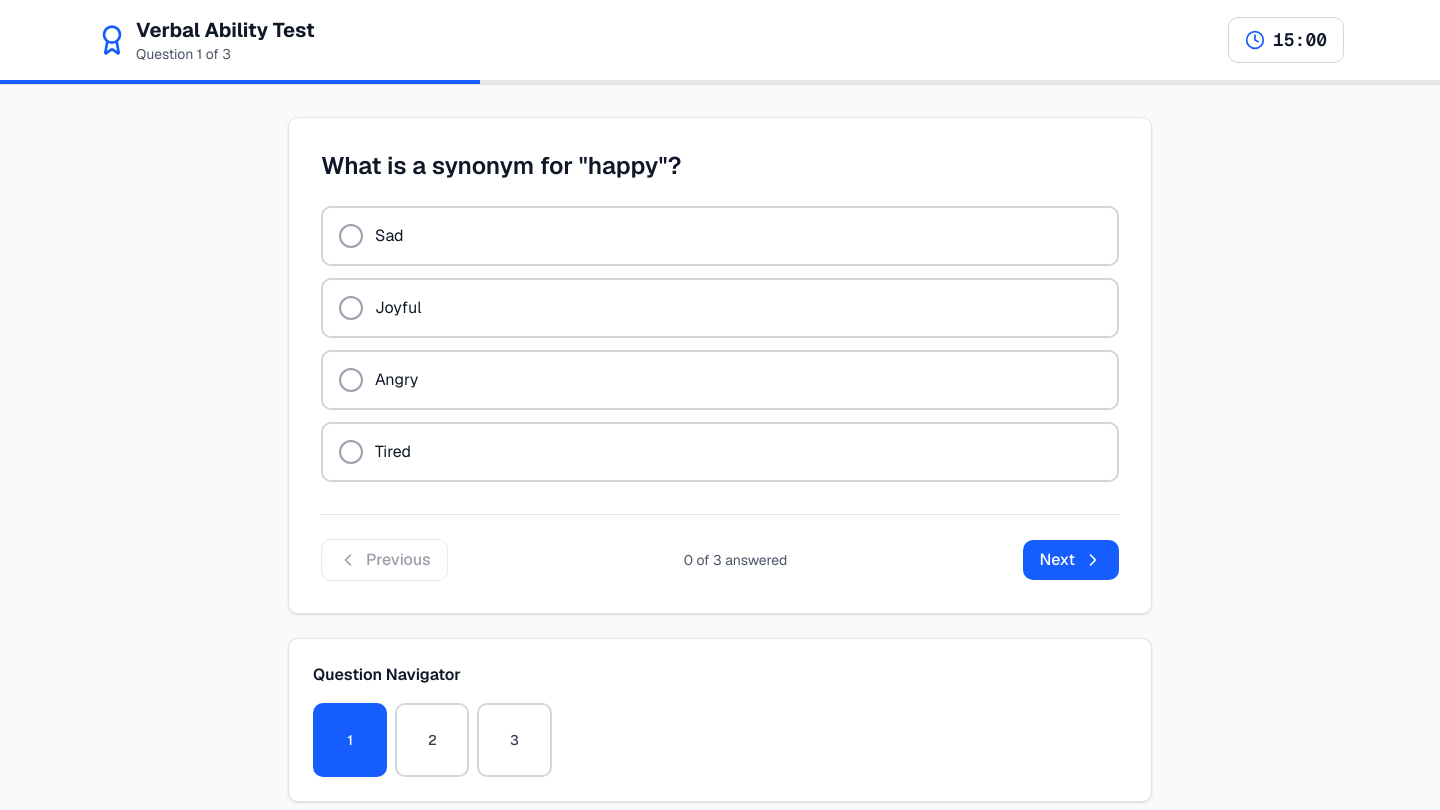
TestTaker Component › shows Submit Test button on last question
Navigate to last question
Click the button "Next". click: (1071, 560)
box: [1023,540,1119,580]
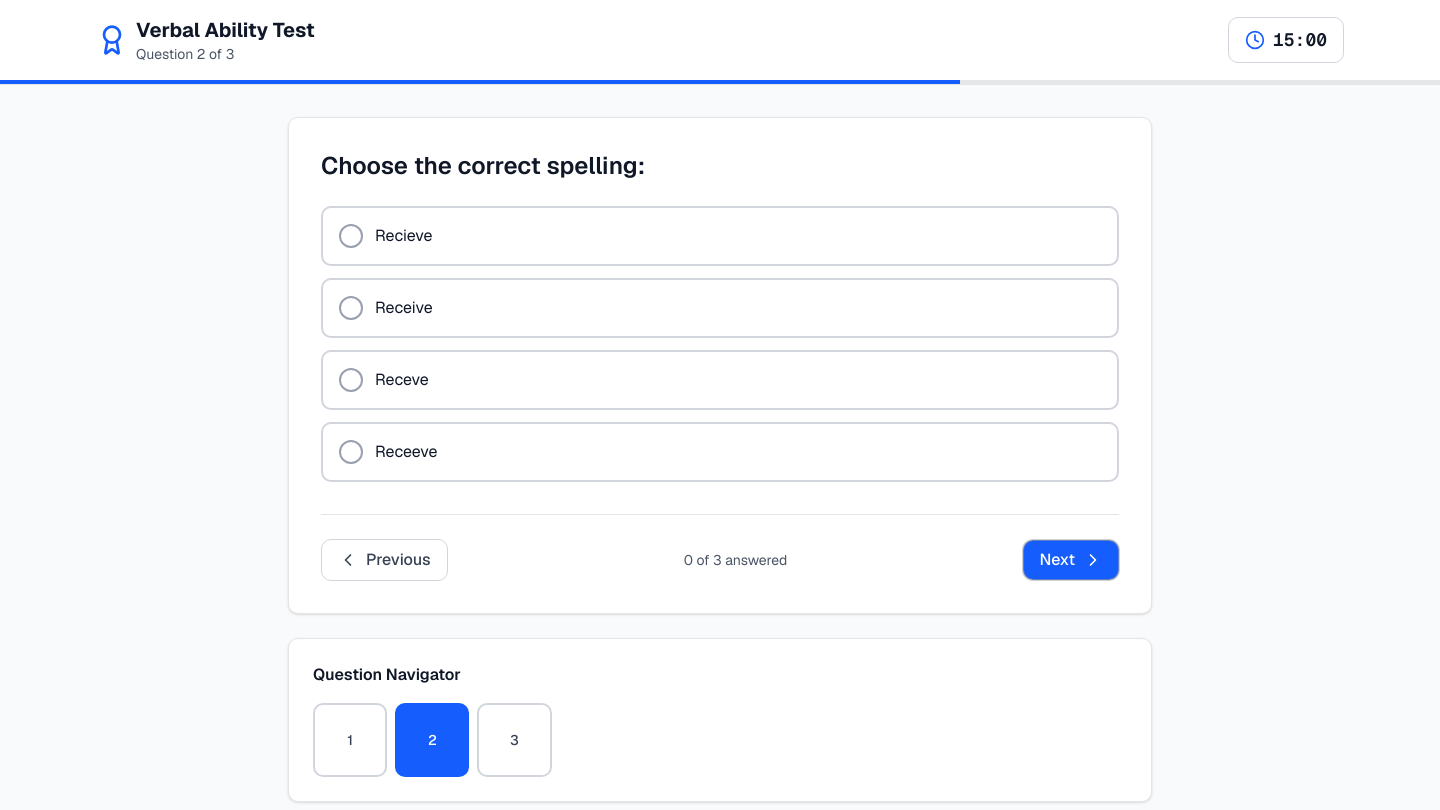
Click the button "Next". click: (1071, 560)
box: [1023,540,1119,580]
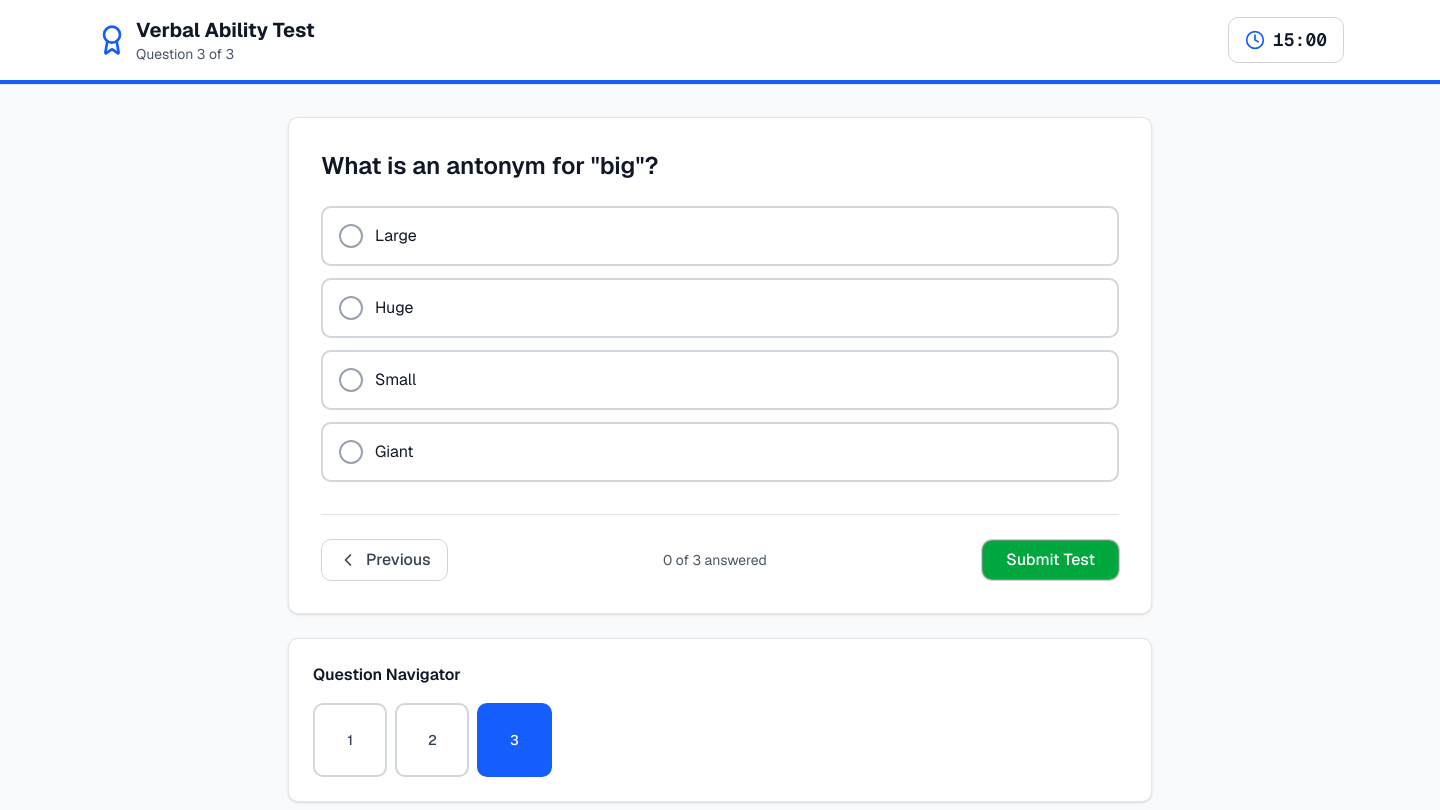
Expected: the button "Submit Test" is shown, [982,540,1119,580]
